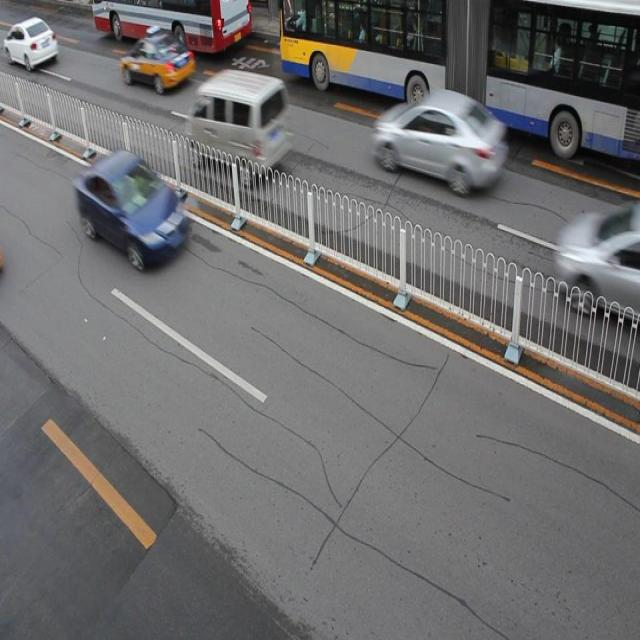car: (374, 88, 507, 194), (74, 147, 184, 268), (120, 28, 195, 93), (1, 17, 58, 72)
truck: (186, 68, 291, 182)
van: (280, 1, 640, 156), (93, 1, 250, 55)
